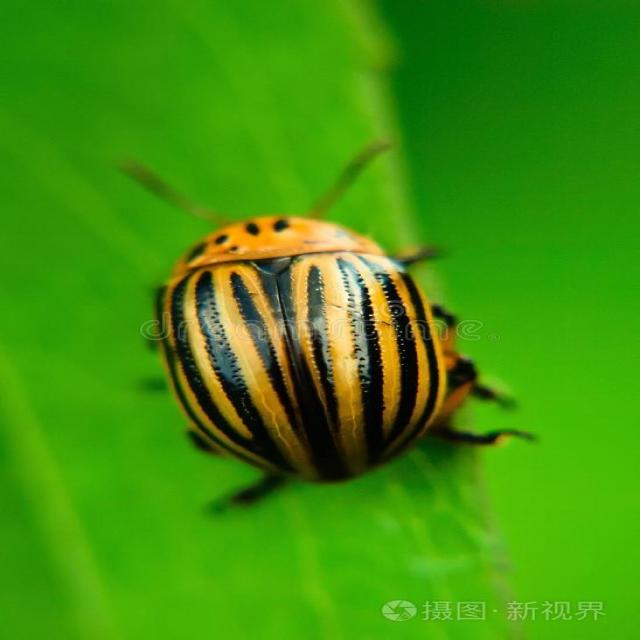ShuCaiHuaBanChong-Grown-: (119, 193, 480, 495)
